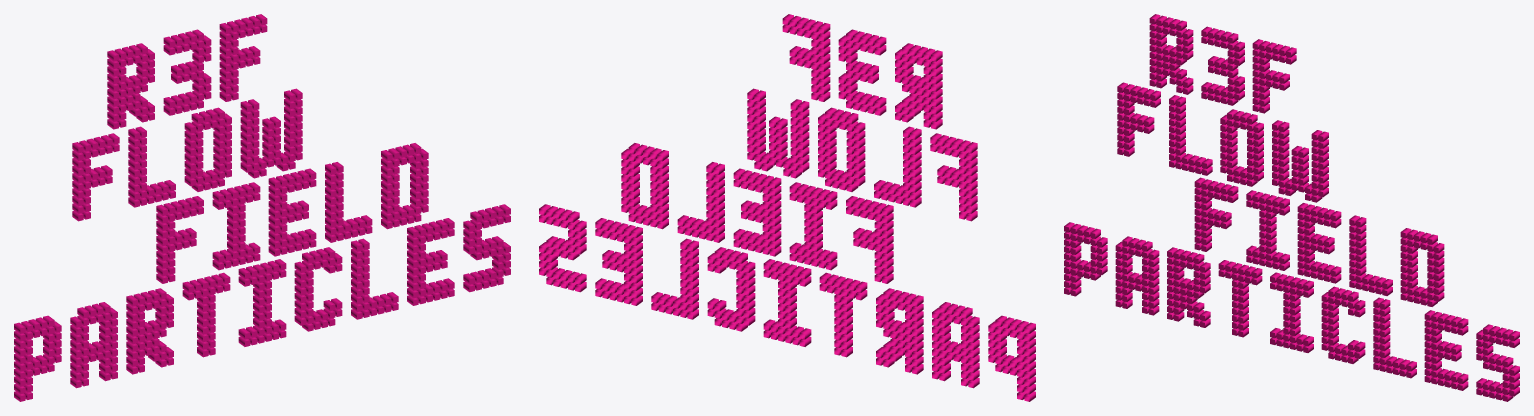
Rendered from title.glb.
3 views of the same model, side by side, from view 1: azimuth 30°, elevation 25°; view 2: azimuth 150°, elevation 25°; view 3: azimuth 330°, elevation 25° (orthographic). The views are drawn at different scales.
Parts seen in each view (by area): view 1: title; view 2: title; view 3: title.
Boxes of the visible parts, x1,y1,x2,y2 form: title: (14,14,510,401); title: (539,14,1035,401); title: (1064,14,1519,401).
Size of the model in its own units: 3.67 by 2.31 by 0.08.
